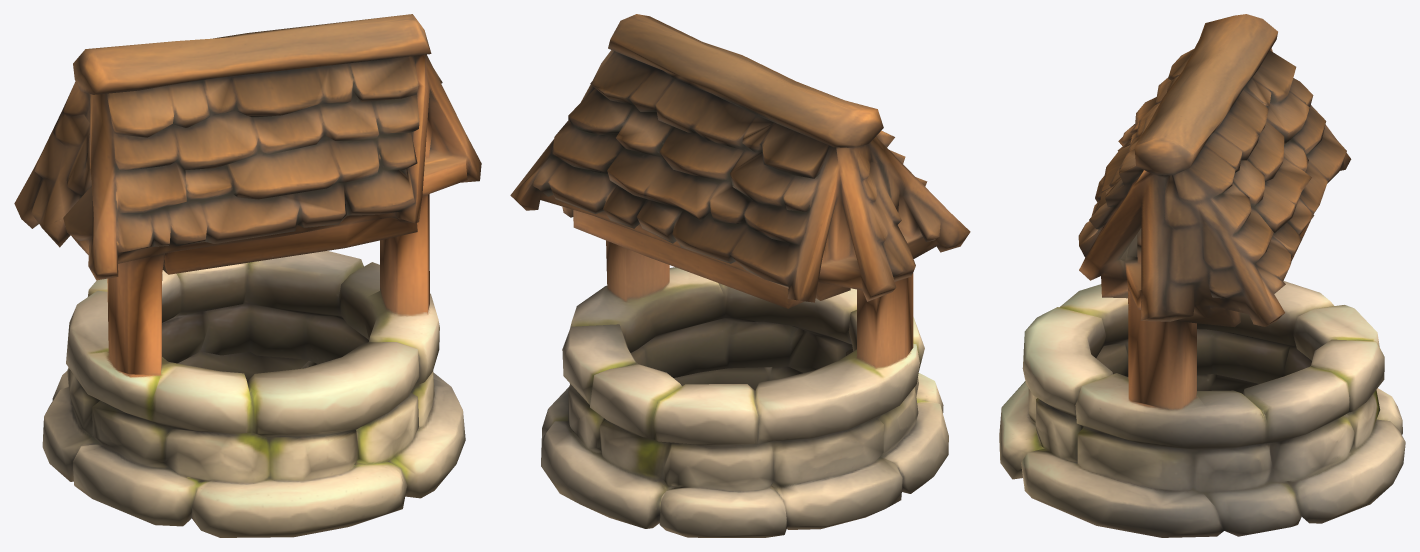
The model's file is well.glb.
3 views of the same model, side by side, from view 1: azimuth 30°, elevation 25°; view 2: azimuth 150°, elevation 25°; view 3: azimuth 270°, elevation 25° (orthographic). The views are drawn at different scales.
Parts seen in each view (by area): view 1: geometry_0.001; view 2: geometry_0.001; view 3: geometry_0.001.
Part boxes in pixels (<box>): geometry_0.001: <box>14,14,481,537</box>; geometry_0.001: <box>510,14,970,537</box>; geometry_0.001: <box>999,14,1405,537</box>.
Bounding box in the file's own units: 1.99 × 1.94 × 1.87.
1 material, 1 textured.
